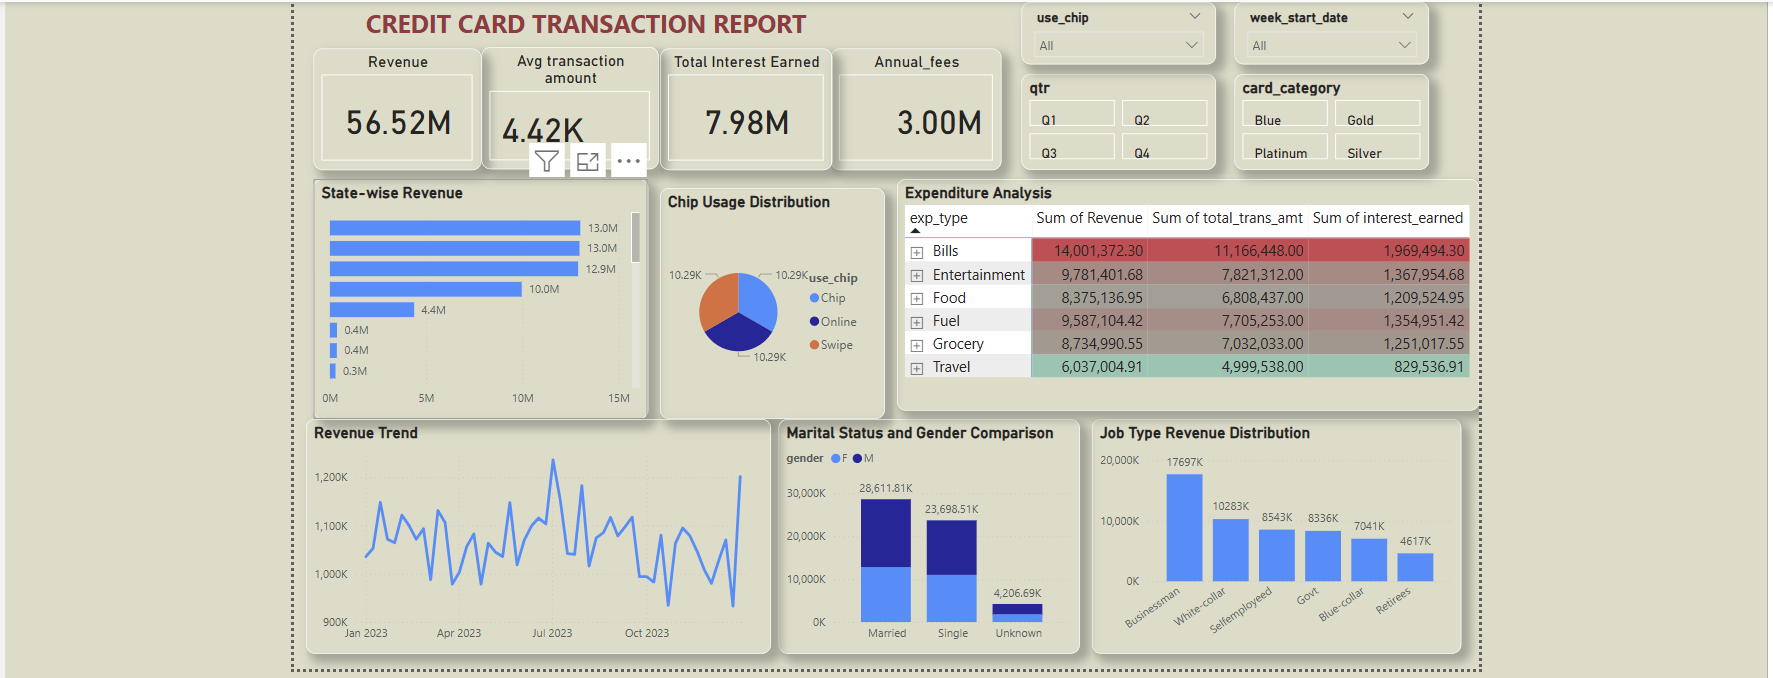

Layout of this report page (visuals, bound fields, positions):
{"tool":"powerbi","page":{"name":"Page 2","canvas":[1280,720],"ordinal":1},"visuals":[{"type":"textbox","box":[21.4,0,651.2,49.3],"z":0},{"type":"cardVisual","title":"Annual_fees","fields":{"Data":["Sum(public.cc_detail.annual_fees)"]},"box":[580.5,50.2,184.2,131.2],"z":1000},{"type":"cardVisual","title":"Revenue","fields":{"Data":["public.cc_detail.TotalRevenue"]},"box":[21.4,50.2,181.4,131.2],"z":2000},{"type":"cardVisual","title":"Avg transaction amount","fields":{"Data":["Avg(public.cc_detail.total_trans_amt)"]},"box":[202.8,49.3,191.6,132.1],"z":3000},{"type":"cardVisual","title":"Total Interest Earned","fields":{"Data":["Sum(public.cc_detail.interest_earned)"]},"box":[394.4,50.2,186,131.2],"z":4000},{"type":"barChart","title":"State-wise Revenue","fields":{"Y":["Sum(public.cc_detail.Revenue)"],"Category":["public.cust_detail.state_cd"]},"box":[21,191.1,361.1,259.1],"z":5000},{"type":"clusteredColumnChart","title":"Job Type Revenue Distribution","fields":{"Category":["public.cust_detail.customer_job"],"Y":["Sum(public.cc_detail.Revenue)"]},"box":[861.2,449.9,398.9,253.5],"z":6000},{"type":"advancedSlicerVisual","fields":{"Values":["public.cc_detail.qtr"]},"box":[785.4,78.3,210,103.1],"z":7000},{"type":"slicer","fields":{"Values":["public.cc_detail.use_chip"]},"box":[785.4,0,210,67.1],"z":8000},{"type":"slicer","fields":{"Values":["public.cc_detail.week_start_date"]},"box":[1015.3,0,210,67.1],"z":9000},{"type":"advancedSlicerVisual","fields":{"Values":["public.cc_detail.card_category"]},"box":[1015.3,78.3,210,103.1],"z":10000},{"type":"pieChart","title":"Chip Usage Distribution","fields":{"Y":["CountNonNull(public.cust_detail.client_num)"],"Category":["public.cc_detail.use_chip"]},"box":[395.1,200.8,242.9,249.4],"z":11000},{"type":"columnChart","title":"Marital Status and Gender Comparison","fields":{"Category":["public.cust_detail.marital_status"],"Series":["public.cust_detail.gender"],"Y":["Sum(public.cc_detail.Revenue)"]},"box":[523.2,449.9,325.6,253.5],"z":12000},{"type":"pivotTable","title":"Expenditure Analysis","fields":{"Rows":["public.cc_detail.exp_type","public.cc_detail.card_category"],"Values":["Sum(public.cc_detail.Revenue)","Sum(public.cc_detail.total_trans_amt)","Sum(public.cc_detail.interest_earned)"]},"box":[651.2,191.4,628.8,249.8],"z":13000},{"type":"lineChart","title":"Revenue Trend","fields":{"Category":["public.cc_detail.week_start_date"],"Y":["public.cc_detail.TotalRevenue"]},"box":[12.4,449.9,502.1,253.5],"z":14000}]}

Visuals, with their boxes on the page's 1280x720 design canvas (x1, y1, x2, y2). These are canvas units, not pixel positions in the 1773x678 screenshot, which may show the page scaled, cropped or inside an application window:
textbox: [x1=21, y1=0, x2=673, y2=49]
"Annual_fees" cardVisual: [x1=580, y1=50, x2=765, y2=181]
"Revenue" cardVisual: [x1=21, y1=50, x2=203, y2=181]
"Avg transaction amount" cardVisual: [x1=203, y1=49, x2=394, y2=181]
"Total Interest Earned" cardVisual: [x1=394, y1=50, x2=580, y2=181]
"State-wise Revenue" barChart: [x1=21, y1=191, x2=382, y2=450]
"Job Type Revenue Distribution" clusteredColumnChart: [x1=861, y1=450, x2=1260, y2=703]
advancedSlicerVisual - public.cc_detail.qtr: [x1=785, y1=78, x2=995, y2=181]
slicer - public.cc_detail.use_chip: [x1=785, y1=0, x2=995, y2=67]
slicer - public.cc_detail.week_start_date: [x1=1015, y1=0, x2=1225, y2=67]
advancedSlicerVisual - public.cc_detail.card_category: [x1=1015, y1=78, x2=1225, y2=181]
"Chip Usage Distribution" pieChart: [x1=395, y1=201, x2=638, y2=450]
"Marital Status and Gender Comparison" columnChart: [x1=523, y1=450, x2=849, y2=703]
"Expenditure Analysis" pivotTable: [x1=651, y1=191, x2=1280, y2=441]
"Revenue Trend" lineChart: [x1=12, y1=450, x2=514, y2=703]
